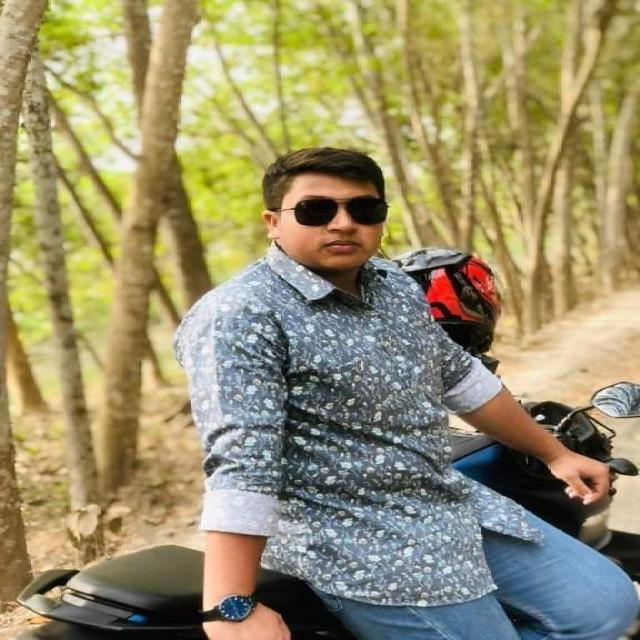Not Wearing Helmet: (171, 28, 513, 347)
